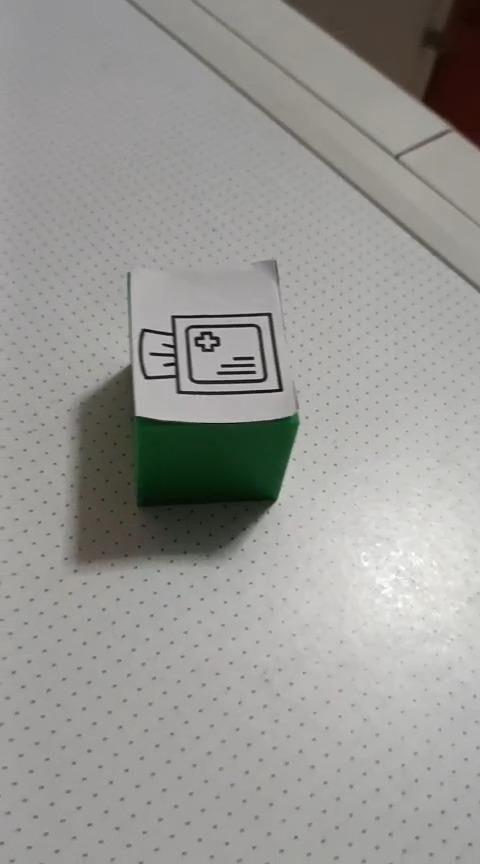Gauze: (125, 257, 300, 507)
